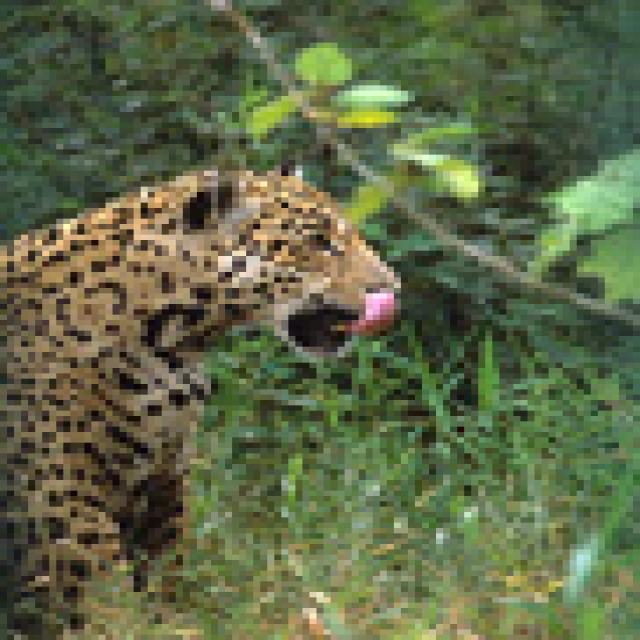Leopard: (0, 160, 408, 629)
